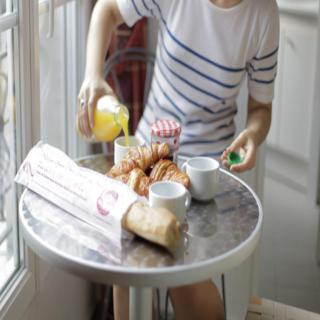Croissant: (106, 148, 169, 176), (148, 158, 191, 189), (114, 167, 152, 200)
